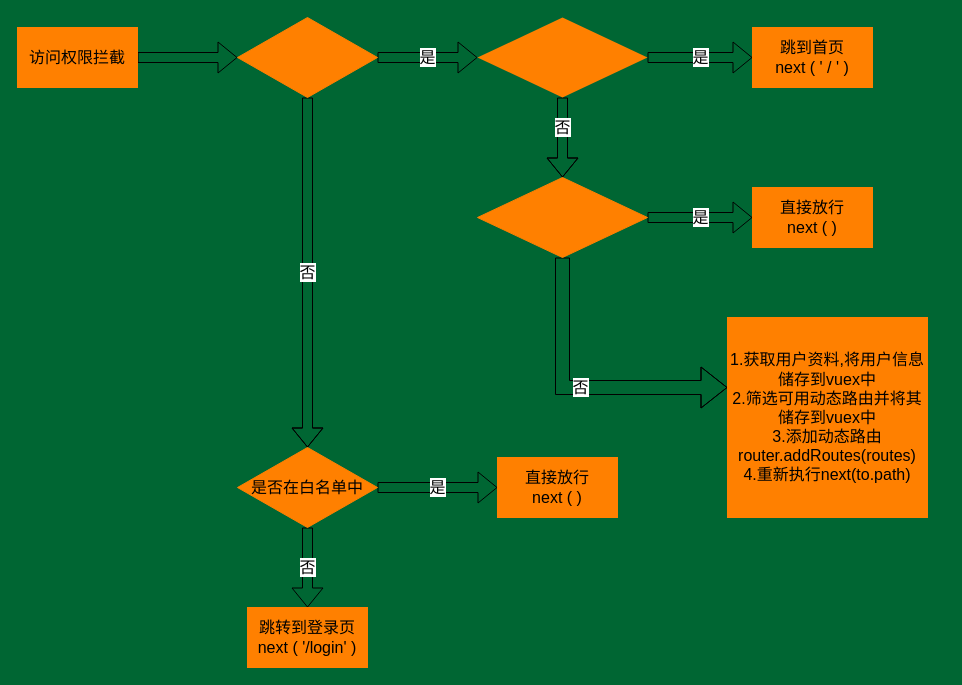
Some shapes in this 962 by 685 pixel diagram are drawn without their labels. Here are the shapes that lost their labels. From the top down, the centre of each, then its label:
point (307, 57): 是否有token
point (562, 57): 是否去登录页
point (562, 217): 是否有用户ID
